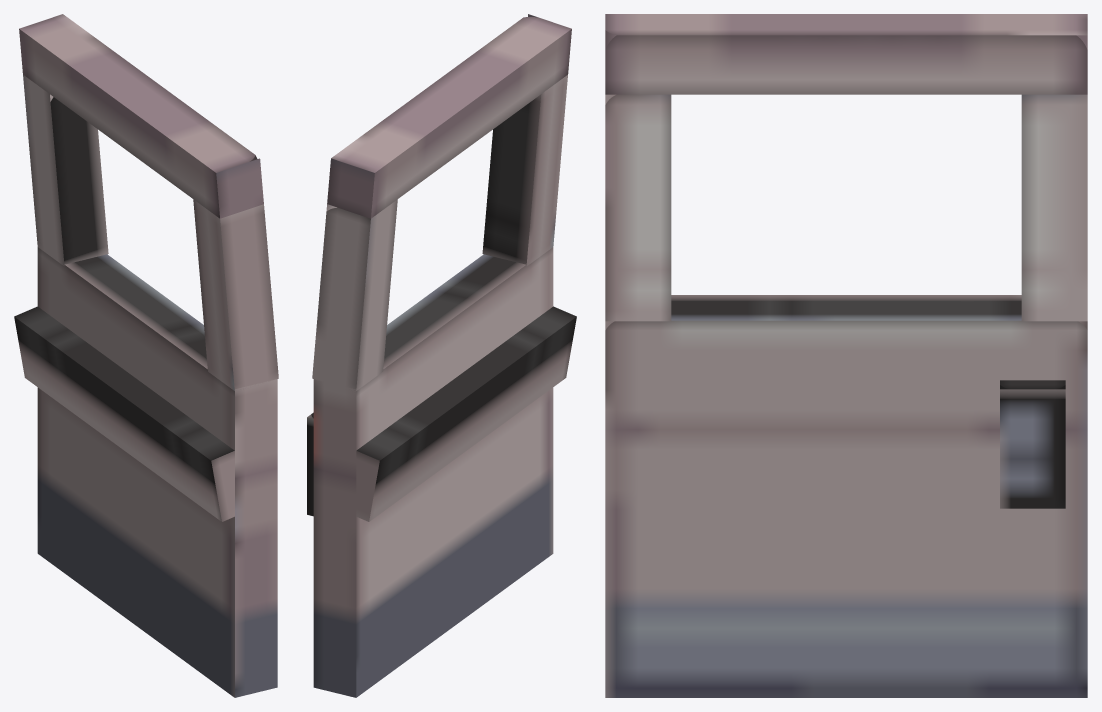
File: wuling_back_door_right.obj
3 views of the same model, side by side, from view 1: azimuth 30°, elevation 25°; view 2: azimuth 150°, elevation 25°; view 3: azimuth 270°, elevation 25° (orthographic). The views are drawn at different scales.
Parts seen in each view (by area): view 1: DP; view 2: DP; view 3: DP.
Part boxes in pixels (x1,y1,x2,y2): DP: (14, 14, 278, 697); DP: (307, 14, 576, 697); DP: (605, 14, 1087, 697).
Size of the model in its own units: 0.3294 by 2.05 by 1.37.
